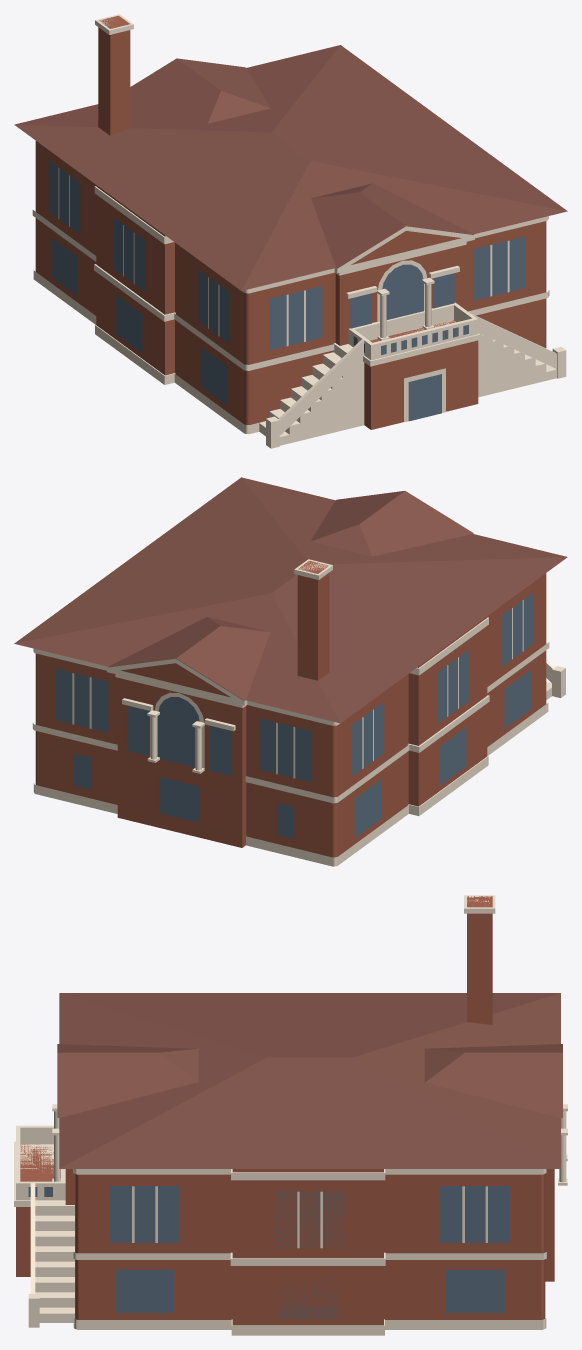
The model's file is nyc-picnic-house.glb.
The picture shows the model from 3 angles, top to bottom: view 1: azimuth 30°, elevation 25°; view 2: azimuth 150°, elevation 25°; view 3: azimuth 270°, elevation 25°; orthographic projection. The views are drawn at different scales.
Parts seen in each view (by area): view 1: Picnic House; view 2: Picnic House; view 3: Picnic House.
Boxes of the visible parts, x1,y1,x2,y2 form: Picnic House: [14, 14, 567, 448]; Picnic House: [14, 477, 567, 866]; Picnic House: [14, 895, 567, 1335].
Size of the model in its own units: 22.56 by 17.5 by 30.03.
